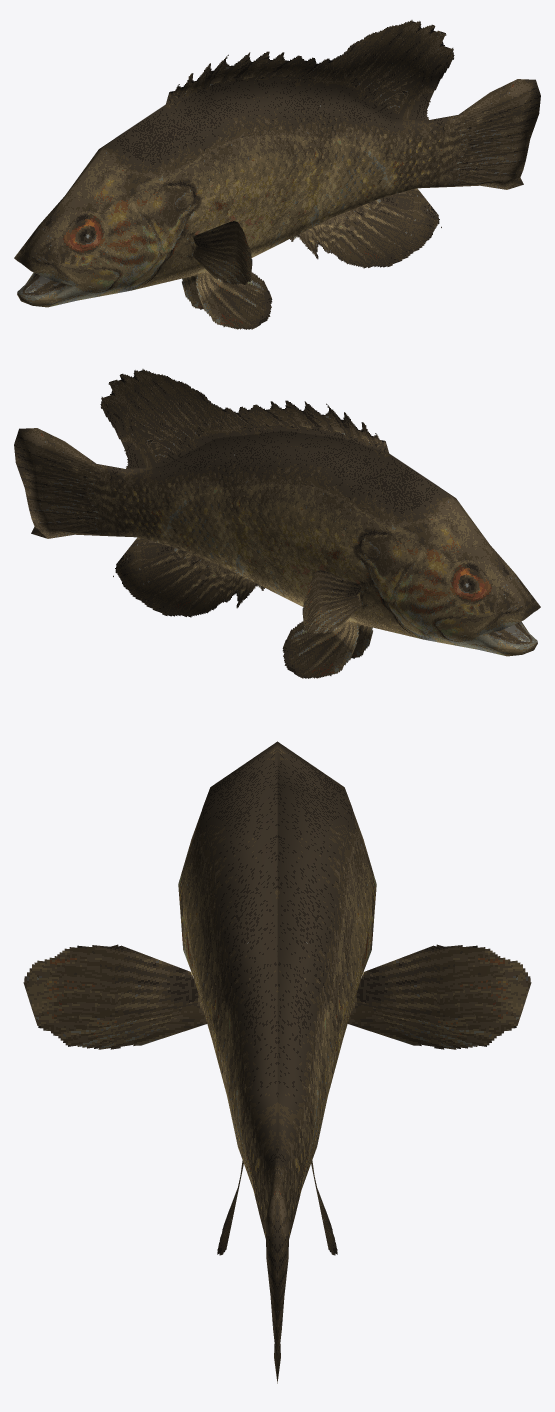
File: Fish.glb
3 views of the same model, one above another, from view 1: azimuth 30°, elevation 25°; view 2: azimuth 150°, elevation 25°; view 3: azimuth 270°, elevation 25° (orthographic). The views are drawn at different scales.
Visible parts, largest first — view 1: fish_lp; view 2: fish_lp; view 3: fish_lp.
Boxes of the visible parts, x1,y1,x2,y2 form: fish_lp: (14,20,540,329); fish_lp: (14,369,540,678); fish_lp: (23,741,531,1383).
Bounding box in the file's own units: 1.15 × 0.5721 × 0.53.
1 material, 1 textured.
